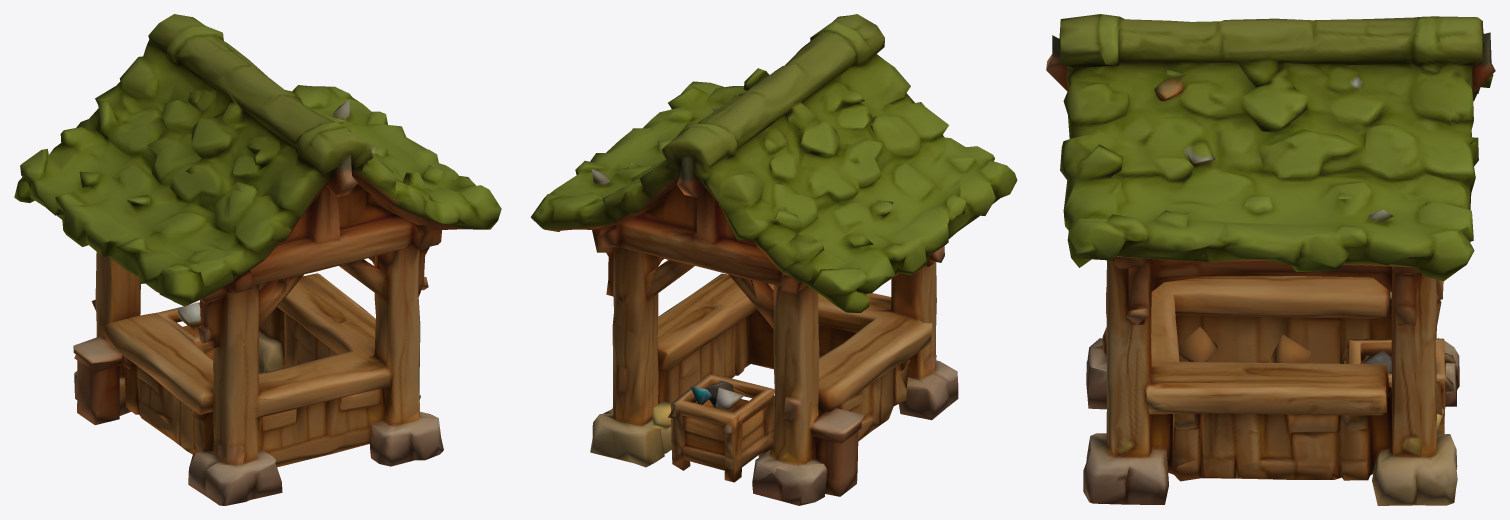
The model's file is textures.glb.
3 renders of one model, left to right at view 1: azimuth 30°, elevation 25°; view 2: azimuth 150°, elevation 25°; view 3: azimuth 270°, elevation 25°, orthographic. The views are drawn at different scales.
Parts seen in each view (by area): view 1: tripo_node_536e8af6-97a0-4e2d-b076-3b3cb53d062a; view 2: tripo_node_536e8af6-97a0-4e2d-b076-3b3cb53d062a; view 3: tripo_node_536e8af6-97a0-4e2d-b076-3b3cb53d062a.
Boxes of the visible parts, left/top/right/bottom form: tripo_node_536e8af6-97a0-4e2d-b076-3b3cb53d062a: left=14, top=14, right=501, bottom=505; tripo_node_536e8af6-97a0-4e2d-b076-3b3cb53d062a: left=530, top=14, right=1017, bottom=505; tripo_node_536e8af6-97a0-4e2d-b076-3b3cb53d062a: left=1046, top=14, right=1495, bottom=505.
Size of the model in its own units: 0.9962 by 1 by 0.9608.
Materials: 1 (1 with a texture image).
